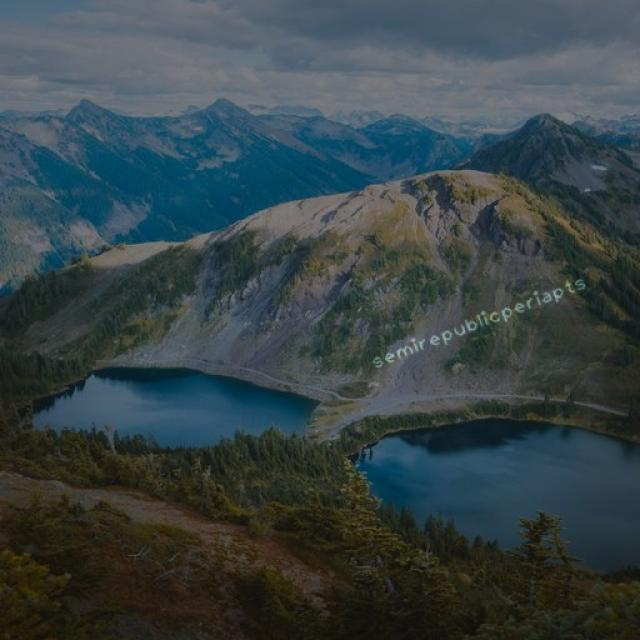watermark: (368, 271, 588, 372)
